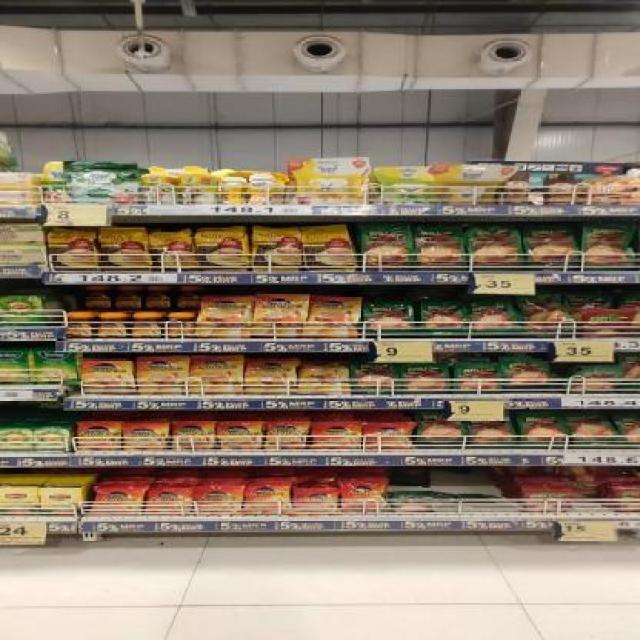Coffee: (307, 295, 361, 339), (198, 295, 251, 339), (254, 294, 306, 338), (192, 356, 242, 393), (243, 358, 294, 394), (80, 360, 134, 394), (299, 359, 350, 395), (137, 358, 188, 393), (91, 488, 140, 514), (76, 422, 116, 451), (220, 422, 260, 450), (249, 486, 289, 514), (122, 422, 163, 449), (200, 488, 240, 515), (151, 490, 192, 516), (315, 423, 356, 449), (296, 489, 338, 514), (268, 422, 308, 448), (174, 422, 211, 449), (368, 424, 409, 448), (344, 481, 385, 505), (99, 313, 128, 338), (132, 314, 162, 338), (65, 312, 93, 337), (167, 314, 195, 337)
